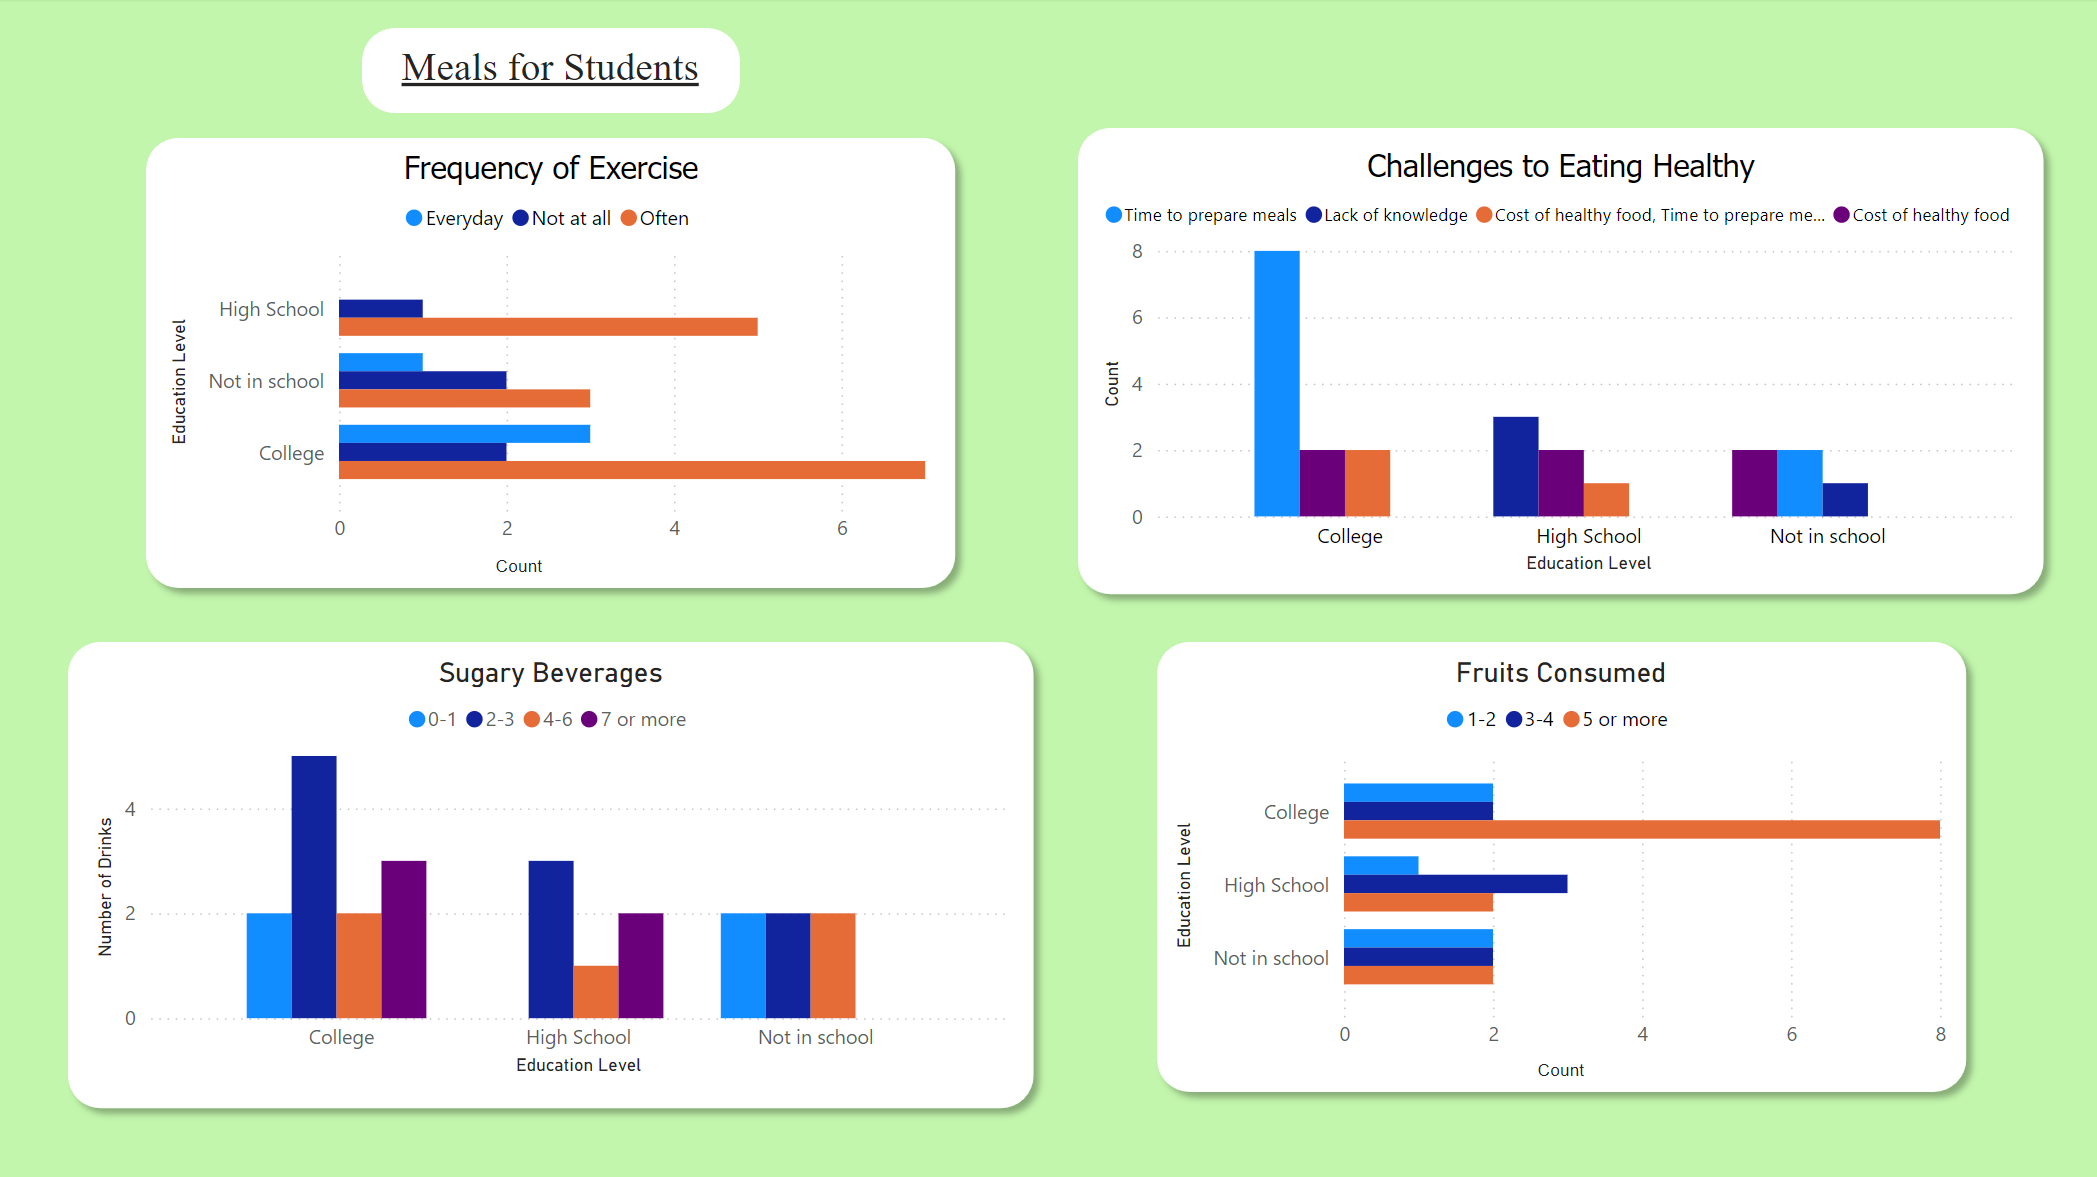

What the dashboard file says about the page in this screenshot:
{"tool":"powerbi","page":{"name":"Page 1","canvas":[1280,720],"ordinal":0},"visuals":[{"type":"shape","box":[649.3,70,607.3,302.7],"z":0},{"type":"shape","box":[221.3,18,230.7,52],"z":1000},{"type":"shape","box":[80.7,76,512,292.7],"z":2000},{"type":"textbox","box":[230.7,24,211.3,39.3],"z":3000},{"type":"clusteredColumnChart","title":"Challenges to Eating Healthy","fields":{"Category":["demographic_data.Education Level"],"Series":["dietary_habits_data.Challenges to Eating Healthy"],"Y":["CountNonNull(demographic_data.Respondent_ID)"]},"box":[668.7,90,568.7,264.7],"z":4000},{"type":"clusteredBarChart","title":"Frequency of Exercise","fields":{"Category":["demographic_data.Education Level"],"Y":["CountNonNull(demographic_data.Respondent_ID)"],"Series":["physical_activities_data.Frequency of Exercise"]},"box":[99.3,91.3,474.7,259.3],"z":5000},{"type":"shape","box":[336.7,331.3,82,20.7],"z":6000},{"type":"textbox","box":[278,331.3,78,26.7],"z":7000},{"type":"shape","box":[697.3,384,512,292.7],"z":8000},{"type":"clusteredBarChart","title":"Fruits Consumed","fields":{"Category":["demographic_data.Education Level"],"Series":["dietary_habits_data.Fruit Consumption Frequency"],"Y":["CountNonNull(demographic_data.Respondent_ID)"]},"box":[712.7,401.3,480.7,258],"z":9000},{"type":"shape","box":[32.7,384,607.3,302.7],"z":10000},{"type":"clusteredColumnChart","title":"Sugary Beverages","fields":{"Category":["demographic_data.Education Level"],"Series":["dietary_habits_data.Sugary Beverages per Week"],"Y":["CountNonNull(demographic_data.Respondent_ID)"]},"box":[54,401.3,564.7,260],"z":11000},{"type":"shape","box":[936,641.3,82,20.7],"z":12000},{"type":"textbox","box":[914,638.7,78,26.7],"z":13000}]}

Visuals, with their boxes in screenshot pixels (x1, y1, x2, y2), scaled from the page's 1280x720 canvas onto the 2097x1177 screenshot:
shape: {"x1": 1064, "y1": 114, "x2": 2059, "y2": 609}
shape: {"x1": 363, "y1": 29, "x2": 741, "y2": 114}
shape: {"x1": 132, "y1": 124, "x2": 971, "y2": 603}
textbox: {"x1": 378, "y1": 39, "x2": 724, "y2": 103}
"Challenges to Eating Healthy" clusteredColumnChart: {"x1": 1096, "y1": 147, "x2": 2027, "y2": 580}
"Frequency of Exercise" clusteredBarChart: {"x1": 163, "y1": 149, "x2": 940, "y2": 573}
shape: {"x1": 552, "y1": 542, "x2": 686, "y2": 575}
textbox: {"x1": 455, "y1": 542, "x2": 583, "y2": 585}
shape: {"x1": 1142, "y1": 628, "x2": 1981, "y2": 1106}
"Fruits Consumed" clusteredBarChart: {"x1": 1168, "y1": 656, "x2": 1955, "y2": 1078}
shape: {"x1": 54, "y1": 628, "x2": 1048, "y2": 1123}
"Sugary Beverages" clusteredColumnChart: {"x1": 88, "y1": 656, "x2": 1014, "y2": 1081}
shape: {"x1": 1533, "y1": 1048, "x2": 1668, "y2": 1082}
textbox: {"x1": 1497, "y1": 1044, "x2": 1625, "y2": 1088}
